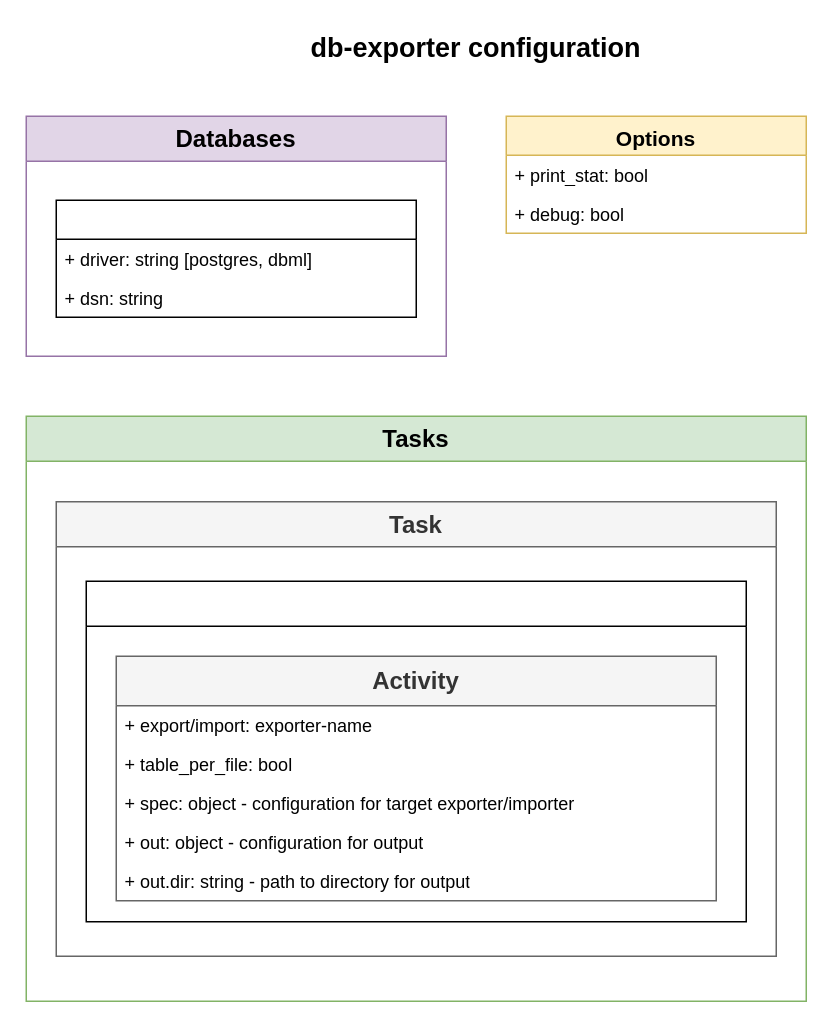
Some shapes in this 833 by 1028 pixel diagram are drawn without their labels. Each missing label, with the box of its shape:
Activities: (85, 580, 746, 922)
Database: (55, 199, 416, 317)
